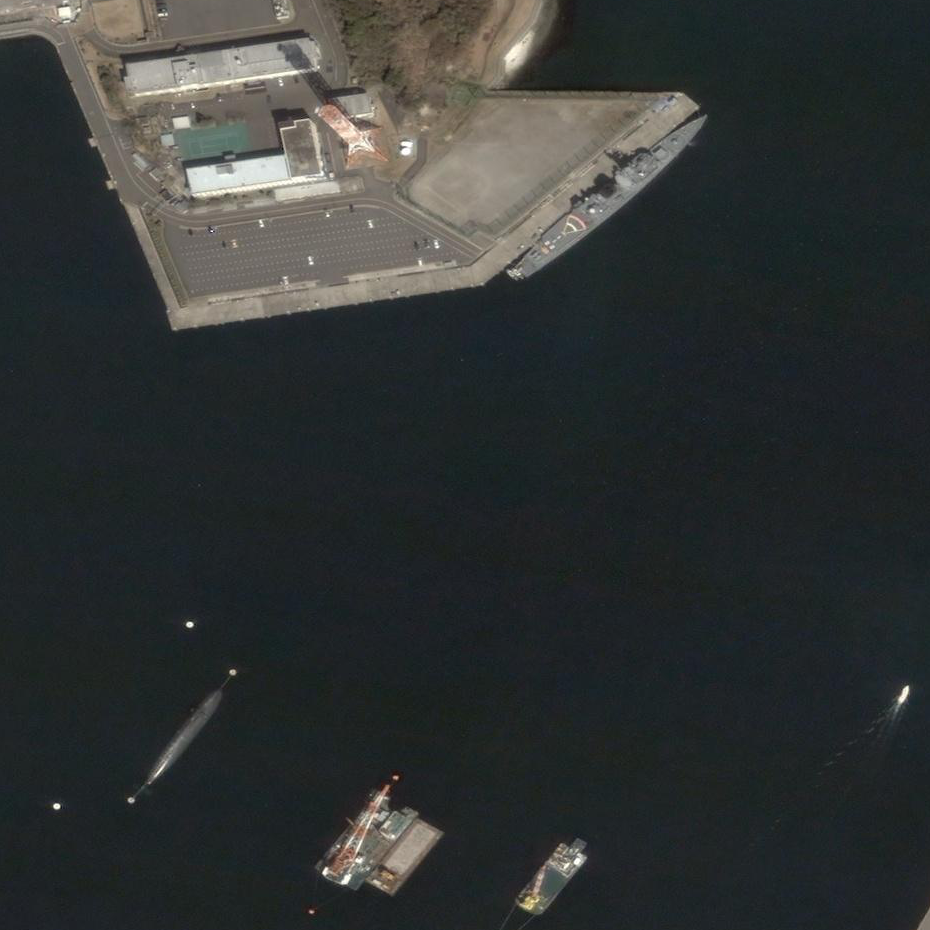Barge: (513, 829, 595, 921)
Hatsuyuki DD: (513, 107, 717, 281)
Other Ship: (506, 268, 520, 284), (511, 267, 525, 281)
Submarine: (144, 688, 224, 786)
Tugboat: (898, 682, 912, 704)
